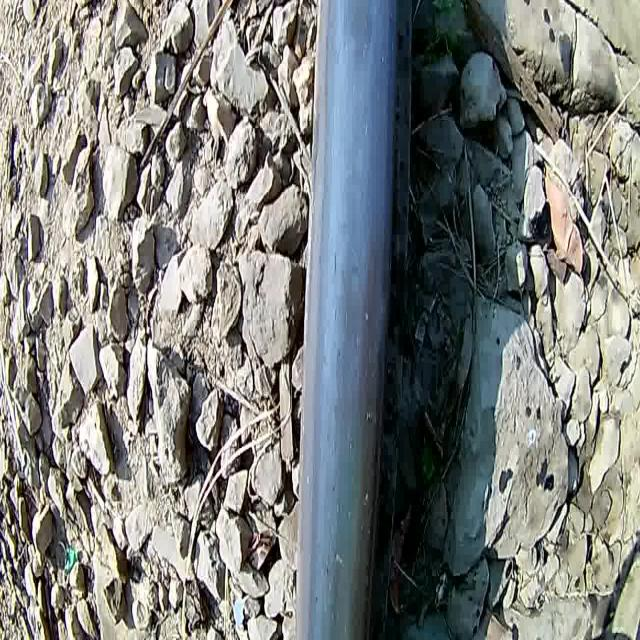Squats: (287, 531, 390, 640), (304, 0, 411, 89)
